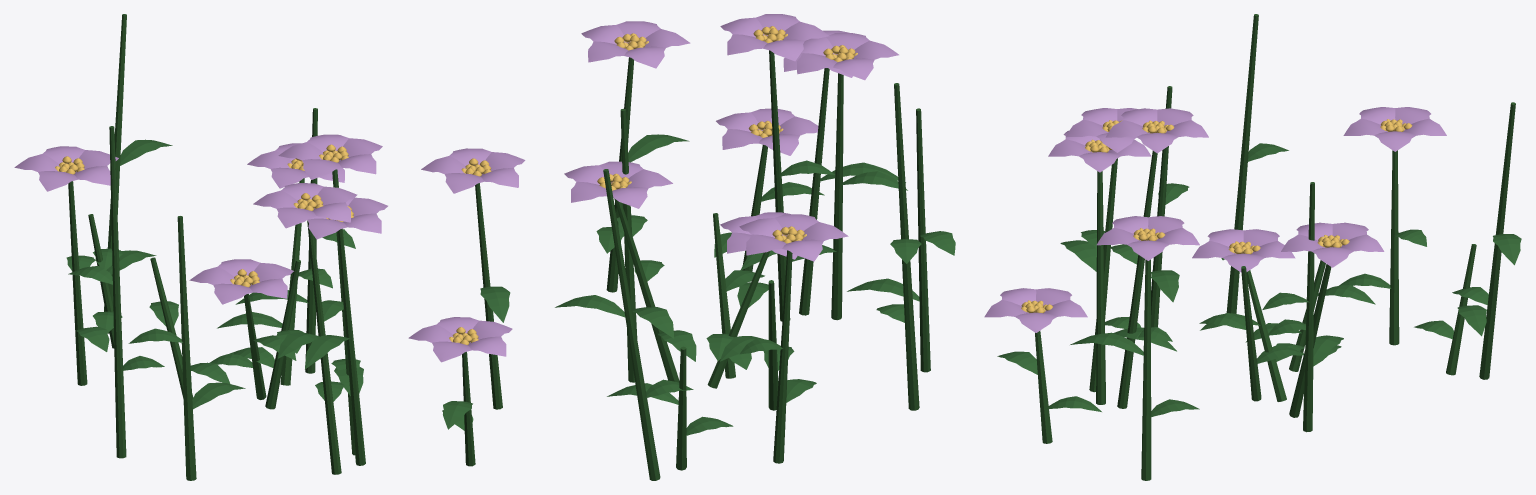
The model's file is detail_wildflower.glb.
3 views of the same model, side by side, from view 1: azimuth 30°, elevation 25°; view 2: azimuth 150°, elevation 25°; view 3: azimuth 270°, elevation 25° (orthographic). The views are drawn at different scales.
Visible parts, largest first — view 1: IndividualFlowerPetals, WildflowerLeaves, Cone.009, Cone.011, Cone.008, Cone.006, Cone, Cone.002, Cone.005, Cone.013, Cone.001, Cone.003 (+5 smaller); view 2: IndividualFlowerPetals, WildflowerLeaves, Cone.005, Cone.009, Cone.011, Cone.006, Cone, Cone.008, Cone.010, Cone.012, Cone.003, Cone.013 (+5 smaller); view 3: IndividualFlowerPetals, WildflowerLeaves, Cone.005, Cone.009, Cone.003, Cone.002, Cone.008, Cone.010, Cone, Cone.011, Cone.006, Cone.013 (+5 smaller).
Part boxes in pixels (x1=…): IndividualFlowerPetals: x1=14, y1=134, x2=525, y2=362; WildflowerLeaves: x1=66, y1=139, x2=510, y2=430; Cone.009: x1=109, y1=126, x2=126, y2=458; Cone.011: x1=177, y1=216, x2=196, y2=480; Cone.008: x1=337, y1=228, x2=365, y2=465; Cone.006: x1=307, y1=220, x2=341, y2=474; Cone: x1=68, y1=181, x2=87, y2=385; Cone.002: x1=475, y1=183, x2=502, y2=409; Cone.005: x1=104, y1=14, x2=126, y2=333; Cone.013: x1=265, y1=259, x2=300, y2=409; Cone.001: x1=150, y1=257, x2=193, y2=399; Cone.003: x1=305, y1=108, x2=317, y2=373; IndividualFlowerPetals: x1=564, y1=14, x2=898, y2=261; WildflowerLeaves: x1=555, y1=134, x2=955, y2=435; Cone.005: x1=603, y1=169, x2=660, y2=480; Cone.009: x1=894, y1=83, x2=919, y2=410; Cone.011: x1=916, y1=108, x2=930, y2=372; Cone.006: x1=831, y1=73, x2=843, y2=320; Cone: x1=773, y1=250, x2=792, y2=463; Cone.008: x1=799, y1=68, x2=829, y2=315; Cone.010: x1=769, y1=50, x2=790, y2=321; Cone.012: x1=614, y1=198, x2=679, y2=382; Cone.003: x1=620, y1=108, x2=637, y2=382; Cone.013: x1=713, y1=213, x2=735, y2=378; IndividualFlowerPetals: x1=984, y1=107, x2=1446, y2=332; WildflowerLeaves: x1=997, y1=143, x2=1521, y2=417; Cone.005: x1=1479, y1=102, x2=1515, y2=379; Cone.009: x1=1226, y1=14, x2=1258, y2=313; Cone.003: x1=1303, y1=182, x2=1314, y2=432; Cone.002: x1=1141, y1=259, x2=1151, y2=480; Cone.008: x1=1096, y1=171, x2=1105, y2=404; Cone.010: x1=1117, y1=151, x2=1157, y2=408; Cone: x1=1389, y1=150, x2=1399, y2=345; Cone.011: x1=1151, y1=86, x2=1172, y2=327; Cone.006: x1=1089, y1=158, x2=1117, y2=392; Cone.013: x1=1241, y1=266, x2=1261, y2=401.
Bounding box in the file's own units: 1.03 × 0.8151 × 1.28.
